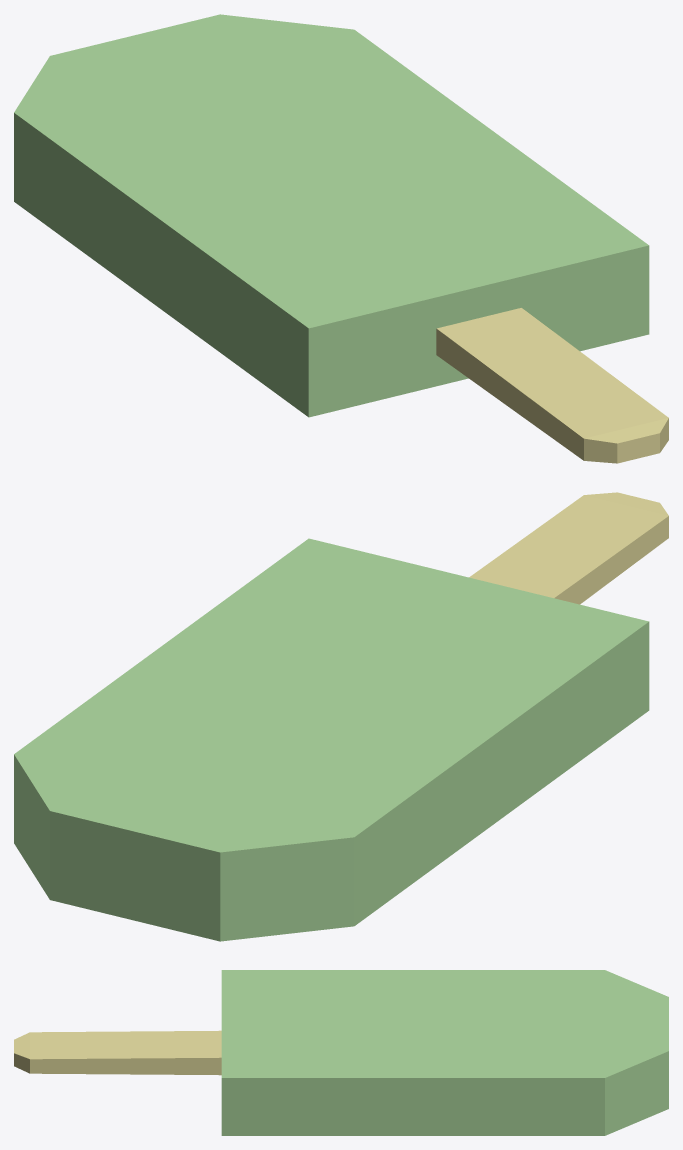
File: popsicle.gltf
The picture shows the model from 3 angles, top to bottom: view 1: azimuth 30°, elevation 25°; view 2: azimuth 150°, elevation 25°; view 3: azimuth 270°, elevation 25°; orthographic projection. The views are drawn at different scales.
Visible parts, largest first — view 1: cuboid-col; view 2: cuboid-col; view 3: cuboid-col.
Boxes of the visible parts, left/top/right/bottom form: cuboid-col: left=14, top=14, right=668, bottom=463; cuboid-col: left=14, top=492, right=668, bottom=941; cuboid-col: left=14, top=970, right=668, bottom=1135.
Size of the model in its own units: 0.25 by 0.0625 by 0.6406.
Materials: 1 (1 with a texture image).
